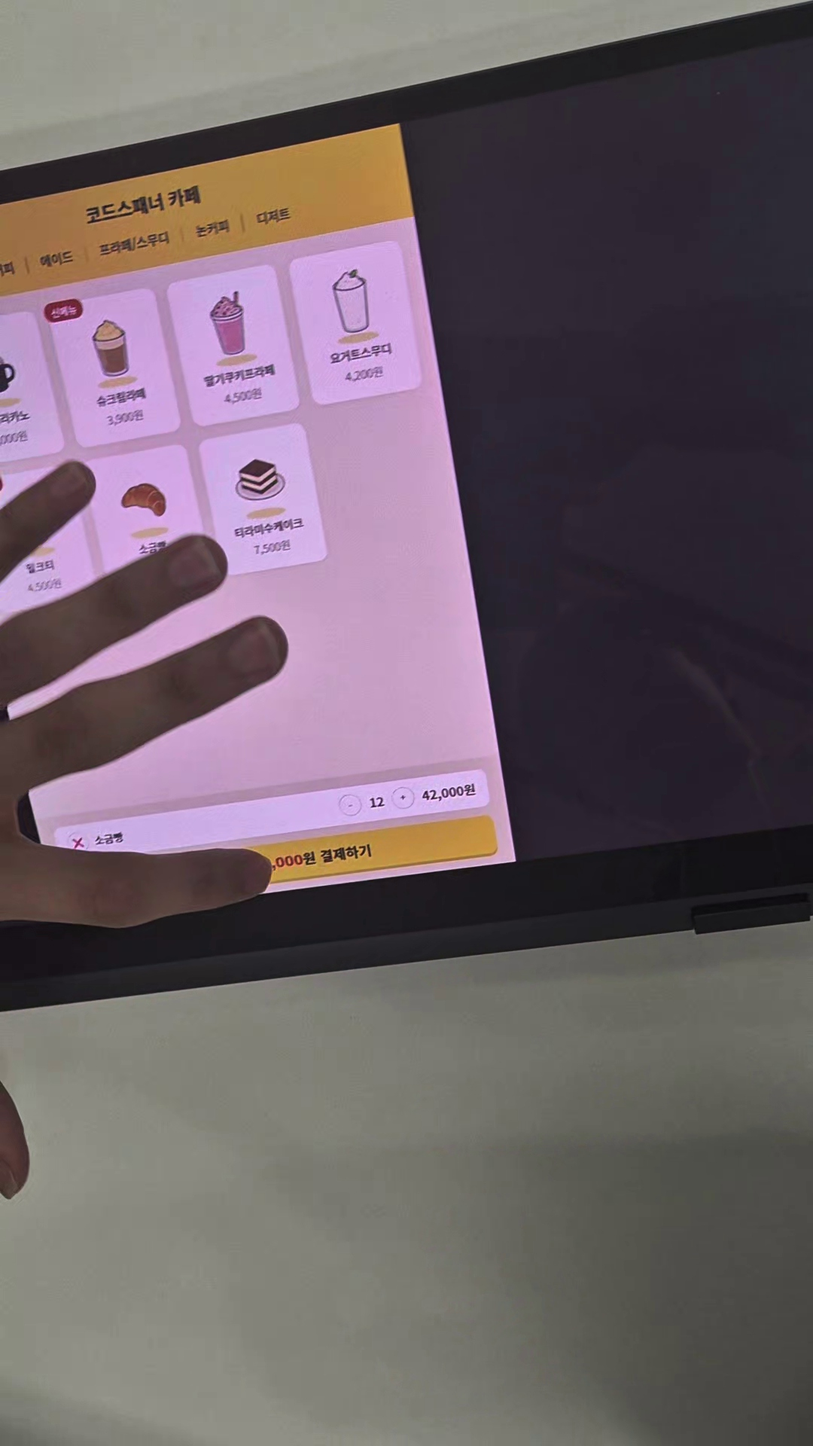cart_item: (54, 769, 491, 864)
category_tab: (97, 228, 172, 259), (37, 248, 75, 272), (194, 217, 231, 240), (255, 205, 292, 228)
menu_back: (288, 238, 424, 407), (165, 263, 302, 429), (46, 286, 182, 449), (198, 422, 329, 577), (84, 443, 212, 596)
menu_name: (202, 361, 277, 391), (328, 340, 395, 368), (232, 515, 305, 540), (94, 385, 148, 411)
menu_price: (222, 386, 264, 407), (104, 408, 145, 429), (251, 537, 292, 558), (343, 365, 385, 385)
